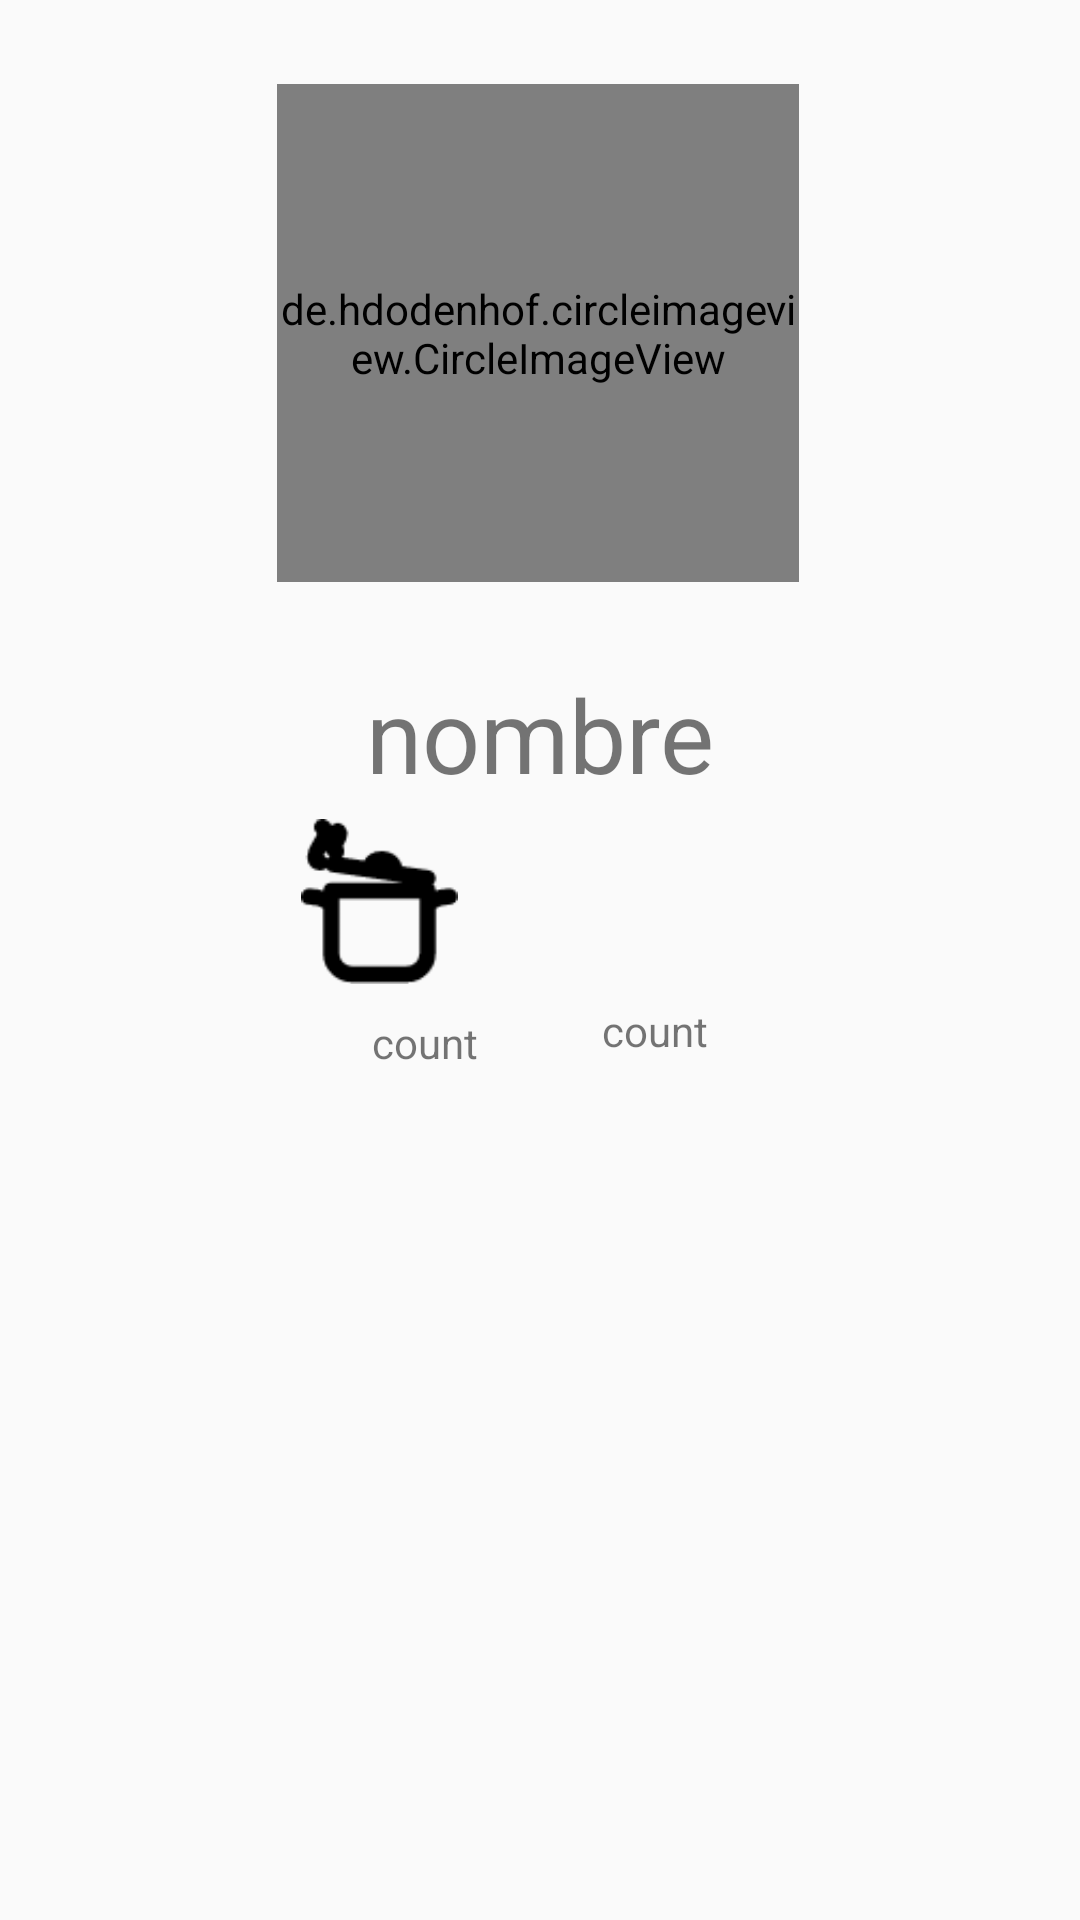

Named icons in this screenshot (1080px×1920px) and their centers, (x=x, y=y):
crear receta: (x=379, y=901)
